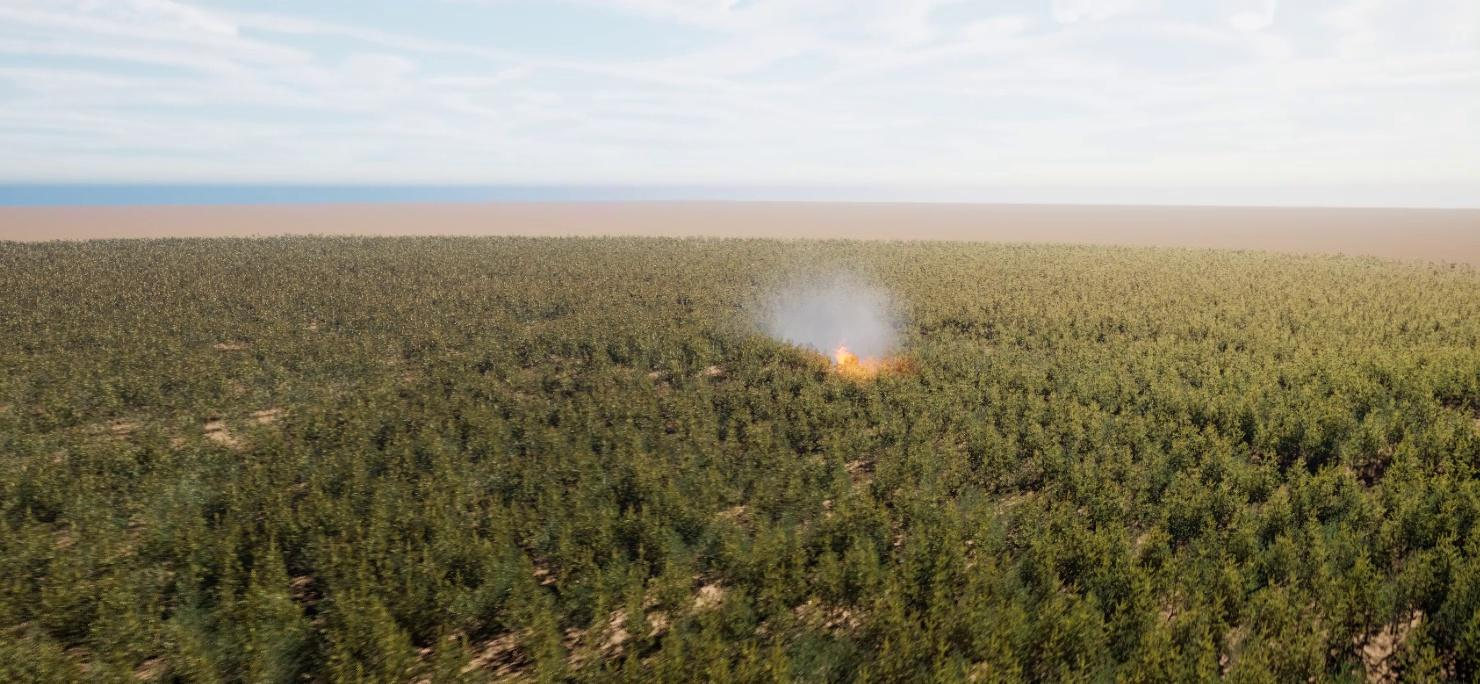fire: (830, 343, 884, 368)
smoke: (745, 268, 910, 368)
